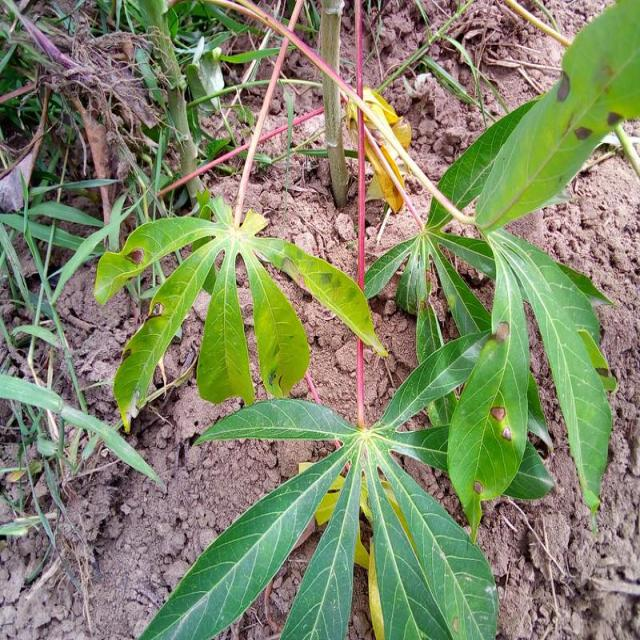cassava leaf: (93, 193, 388, 432), (136, 441, 351, 638), (472, 0, 638, 237), (486, 227, 614, 526)
